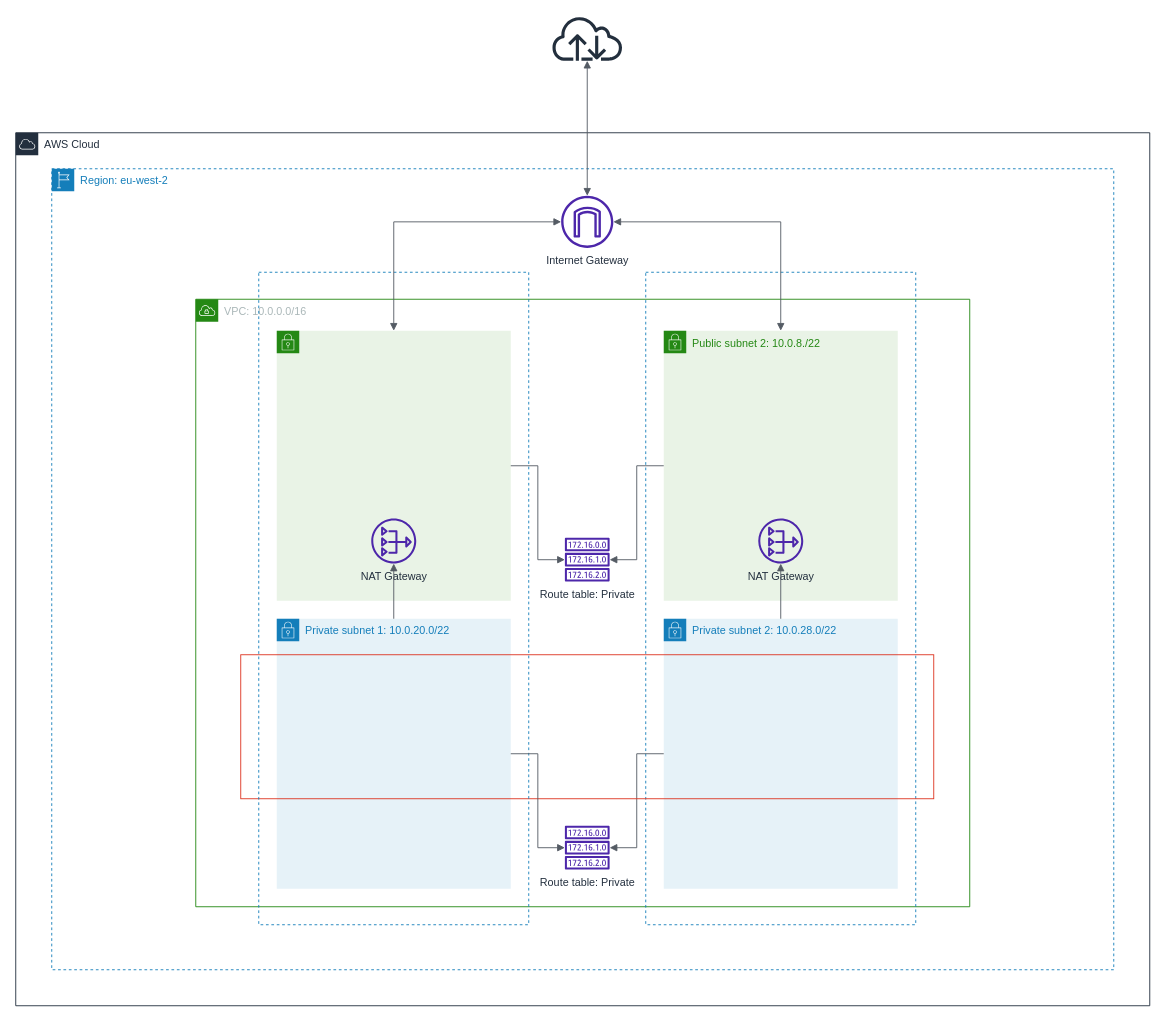
Some shapes in this 1166 by 1022 pixel diagram are drawn without their labels. The box of each missing label's shape, as (x1, y1, x2, y2) in pixels:
Availability Zone: A: (258, 271, 529, 925)
Availability Zone: B: (645, 271, 916, 925)
Internet: (550, 15, 623, 60)
Public subnet 1: 10.0.0./22: (276, 330, 511, 601)
Security group: (240, 654, 934, 799)
